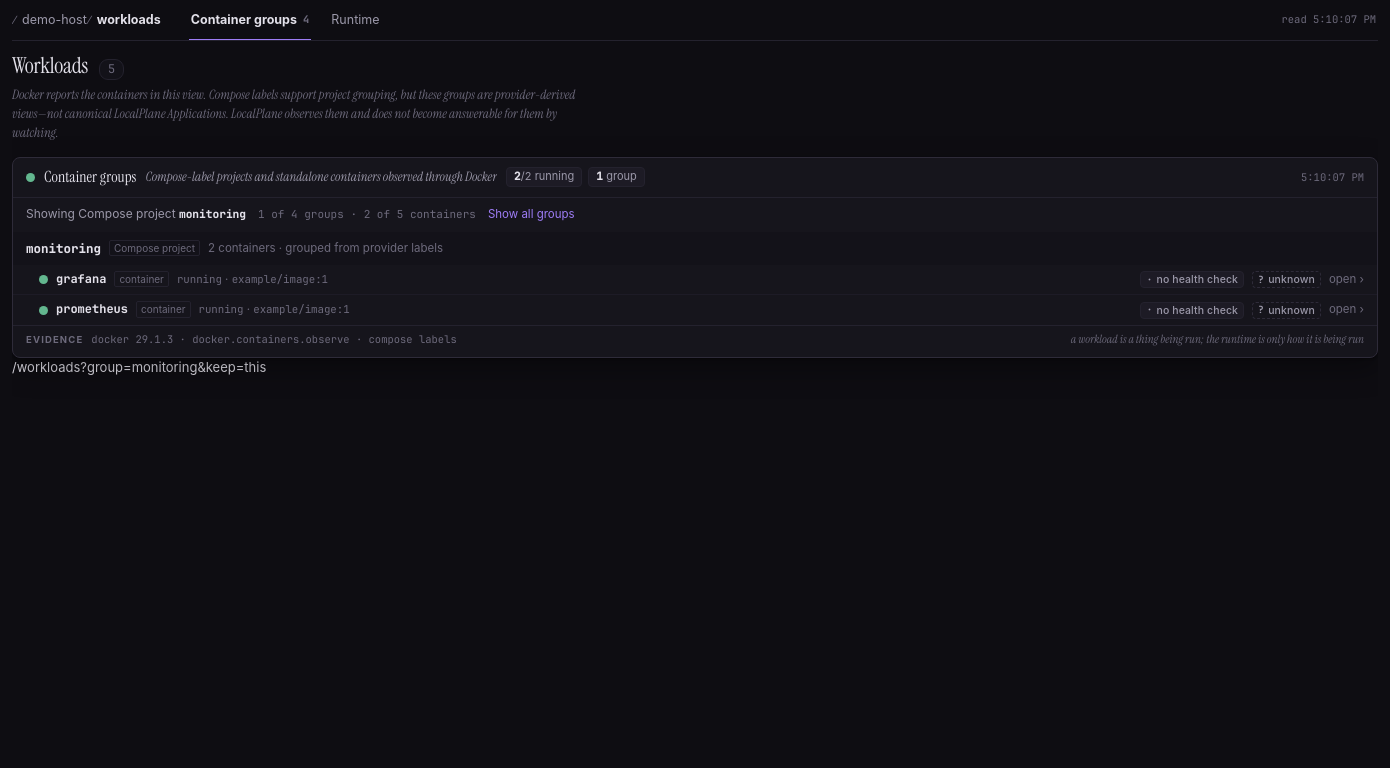
Test: clear filter and unrelated params › clears only the group parameter while preserving unrelated params
This screenshot has width=1390, height=768.
expect the link "grafana" is shown: met, box [39, 271, 1364, 288]
expect the link "app-one" is not shown: met
Click the link "Show all groups": (531, 214) [488, 206, 575, 223]
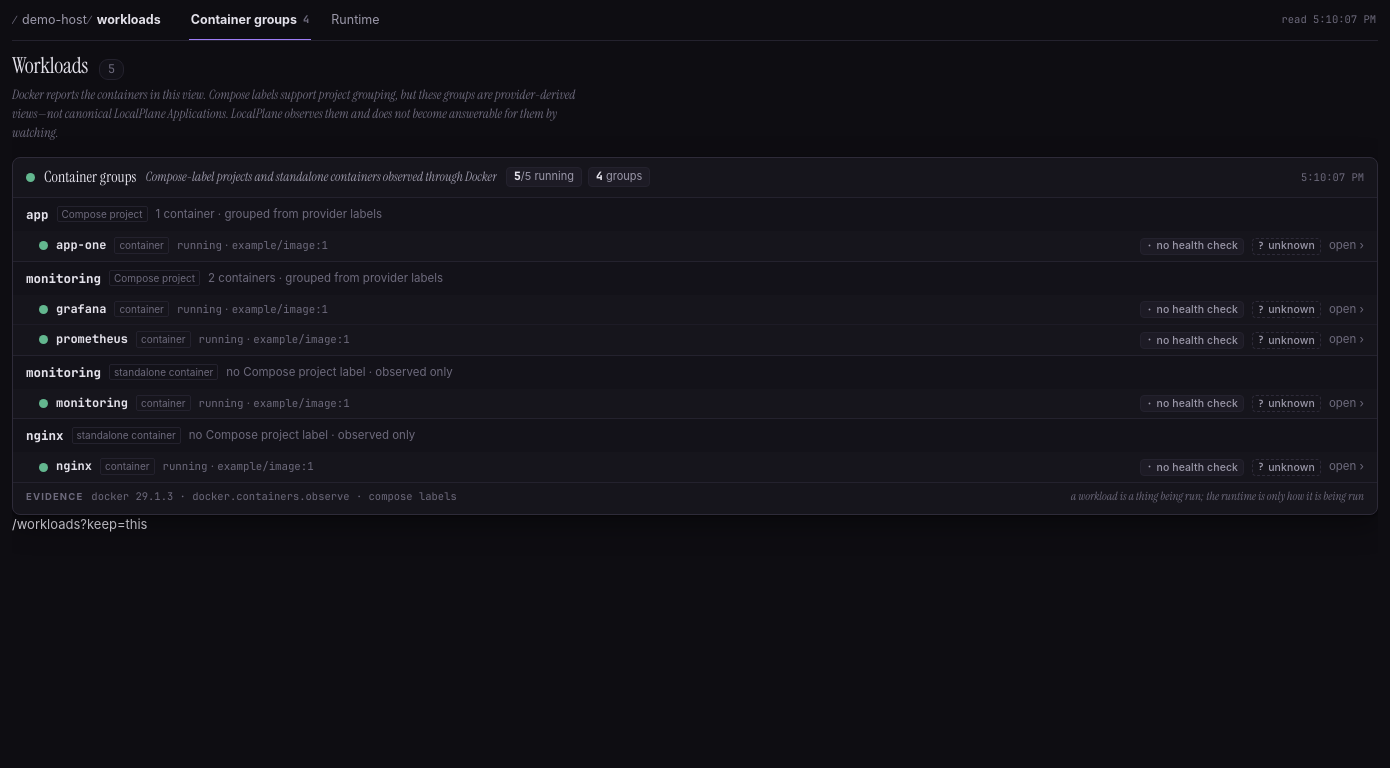
expect the text with test id "address" reads "/workloads?keep=this": met, box [12, 516, 148, 532]
expect the link "app-one" is shown: met, box [39, 237, 1364, 254]
expect the link "nginx" is shown: met, box [39, 458, 1364, 476]
